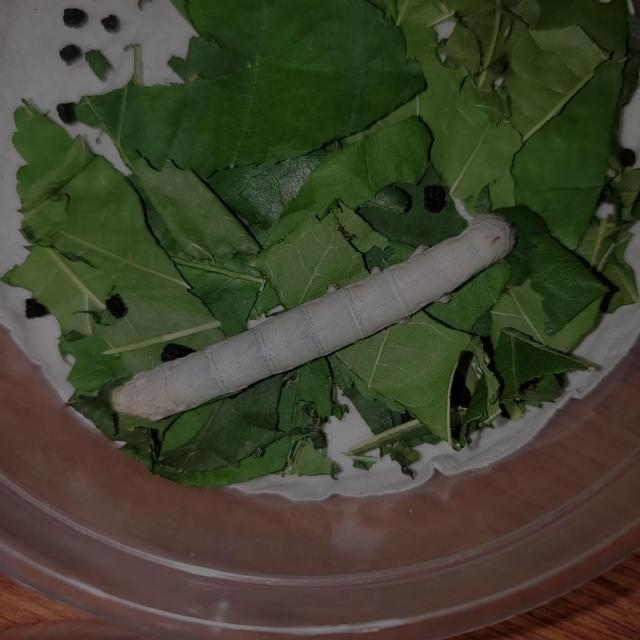Healthy: (101, 209, 522, 430)
